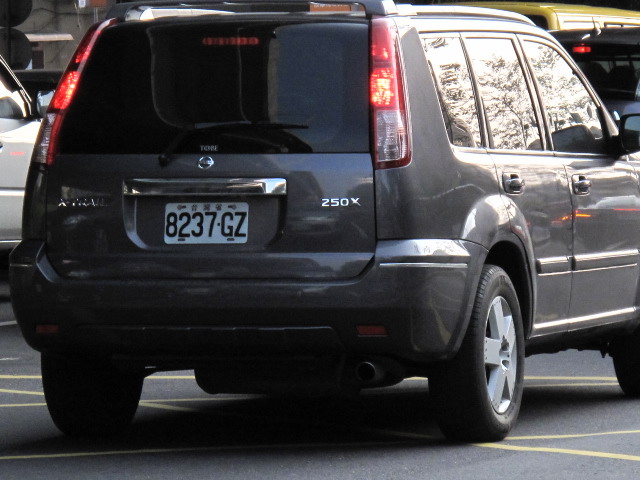plate: (161, 200, 252, 248)
